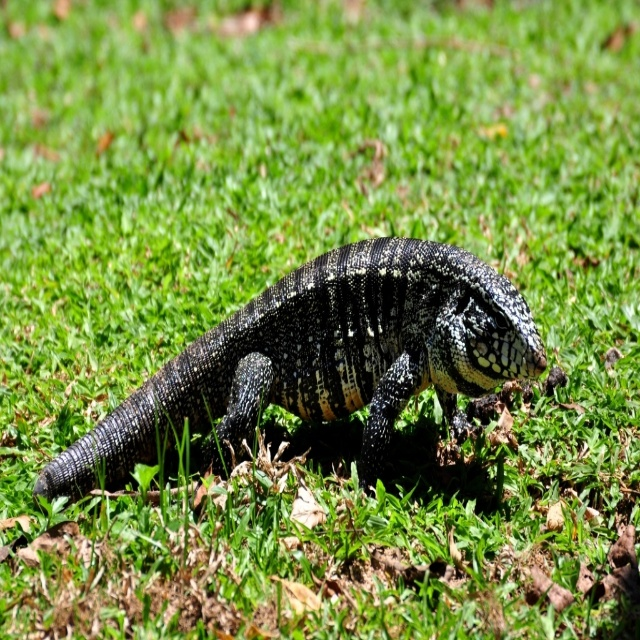Lizard: (30, 236, 547, 499)
